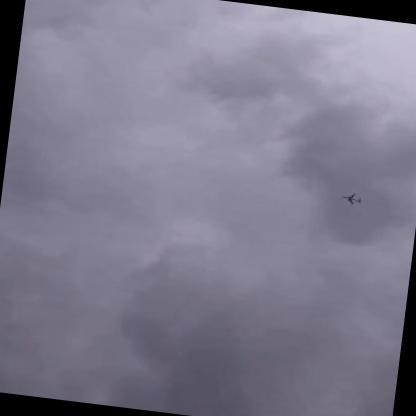plane: (339, 189, 362, 206)
